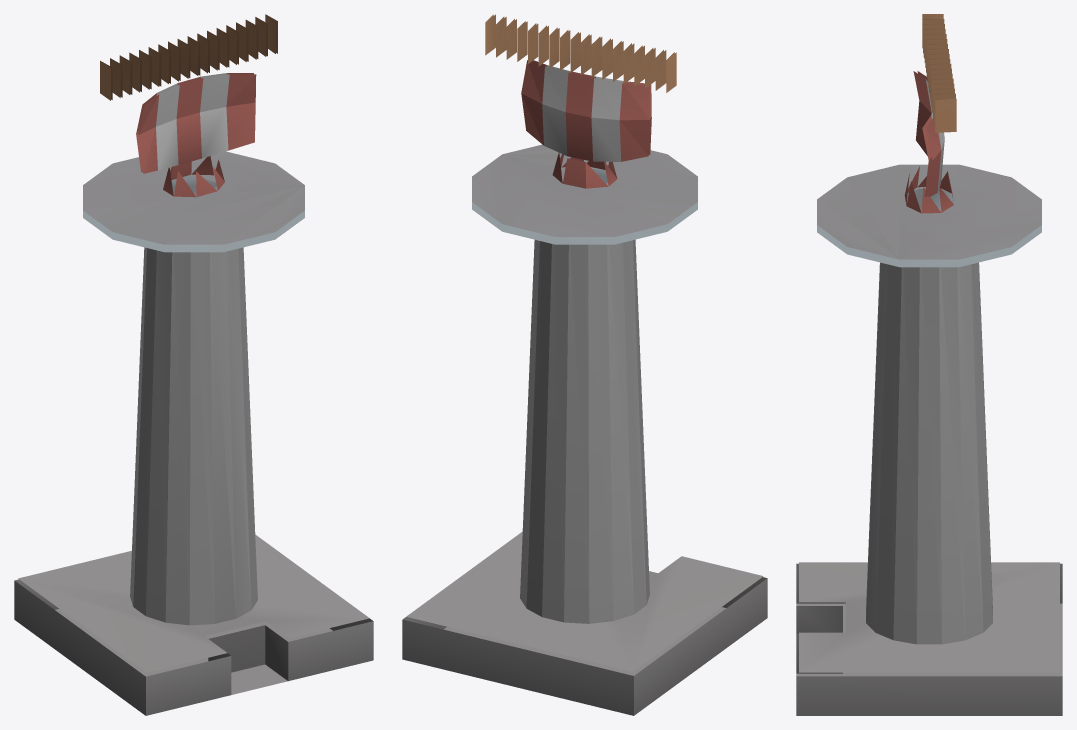
The model's file is radar.lod.glb.
The picture shows the model from 3 angles, left to right: view 1: azimuth 30°, elevation 25°; view 2: azimuth 150°, elevation 25°; view 3: azimuth 270°, elevation 25°; orthographic projection.
Parts seen in each view (by area): view 1: radar; view 2: radar; view 3: radar.
Boxes of the visible parts, bbox=[...] form: radar: bbox=[14, 14, 373, 715]; radar: bbox=[402, 14, 767, 715]; radar: bbox=[796, 14, 1062, 715].
Size of the model in its own units: 8 by 20 by 8.
